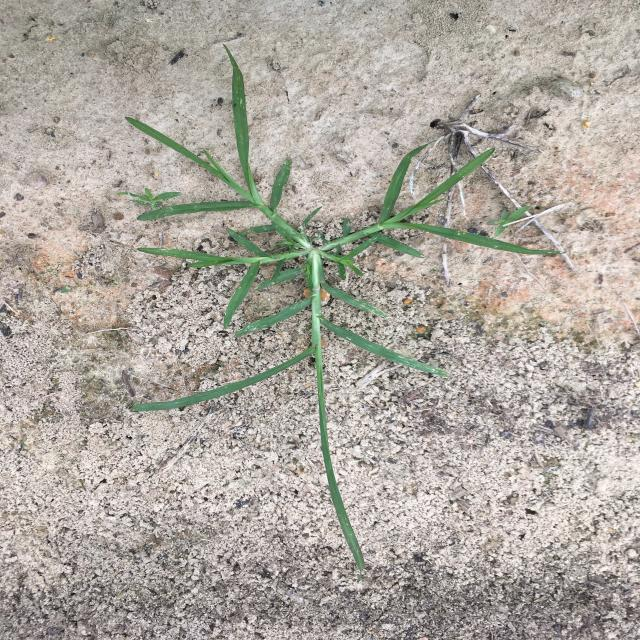Goosegrass: (131, 45, 564, 581), (116, 187, 182, 211)
